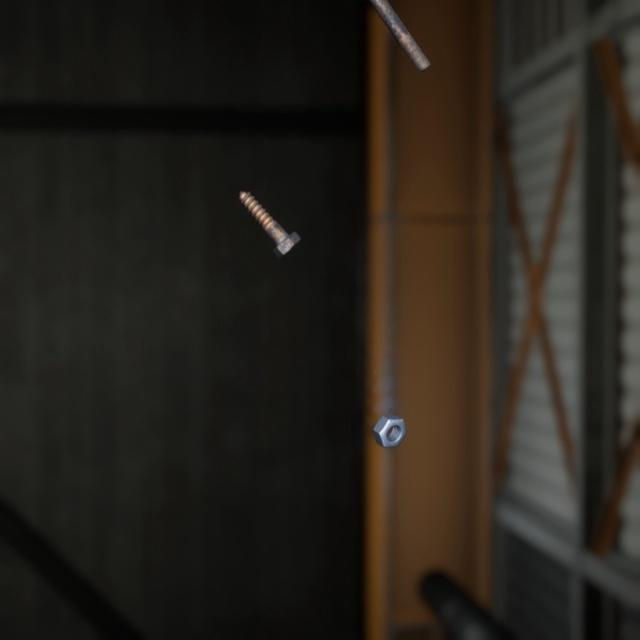bolt: (234, 171, 305, 246), (368, 0, 434, 69)
nut: (368, 391, 411, 432)
